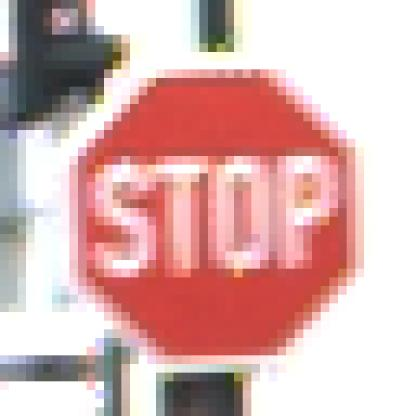Stop: (70, 66, 356, 366)
